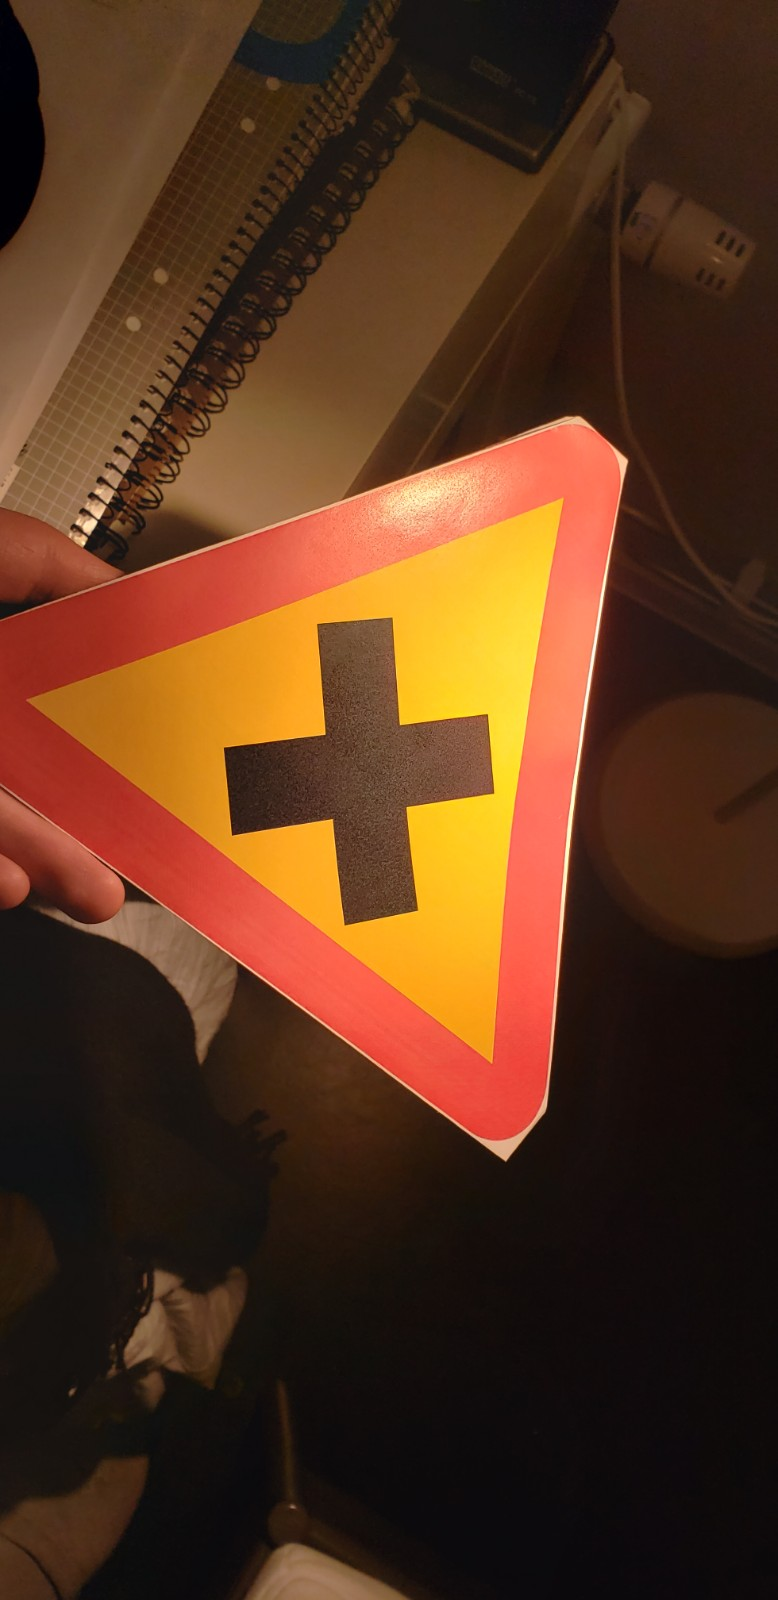junction: (4, 372, 664, 1201)
